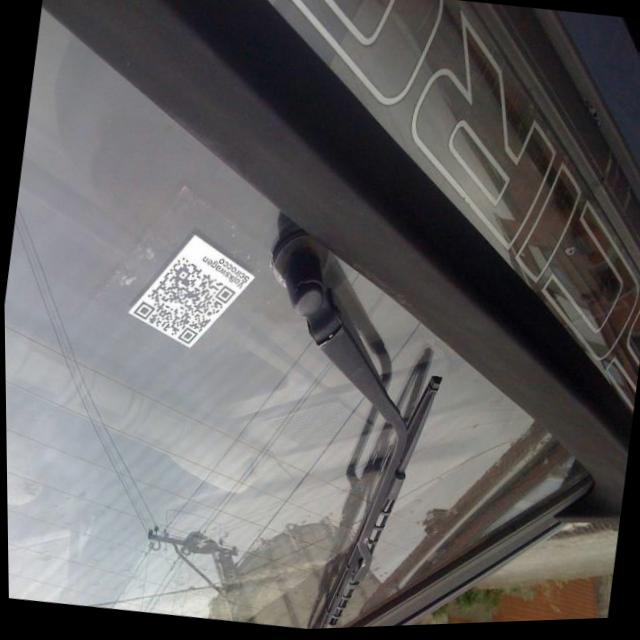qrcode: (129, 251, 239, 353)
